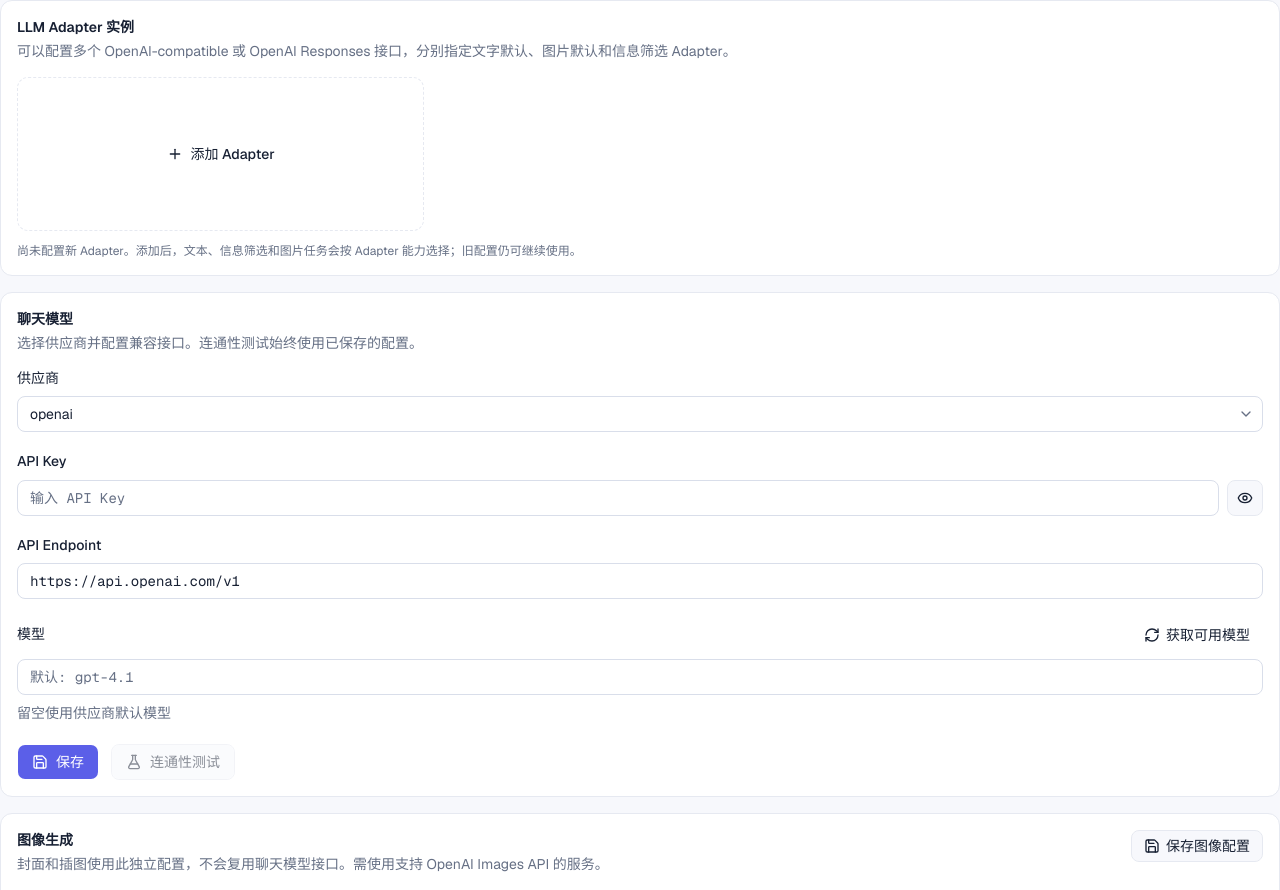
Test case: AISection › dismisses model suggestions with Escape without changing the typed value
Click the button "获取可用模型". click: (1197, 635)
box: [1131,619,1263,651]
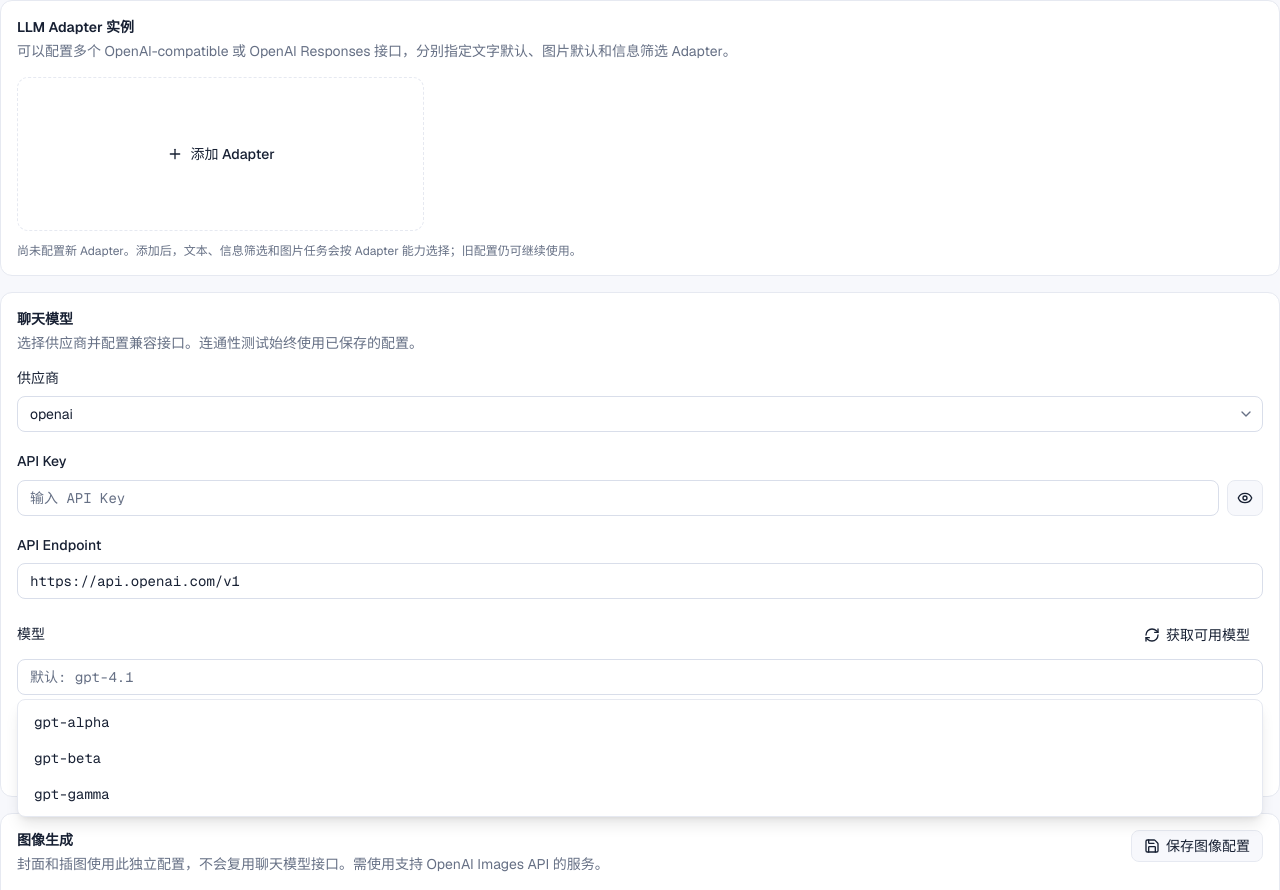
Now the option "gpt-alpha" is shown, box [22,704,1258,740]
Click the dropdown labelled "模型". click: (640, 677)
box: [17,659,1263,695]
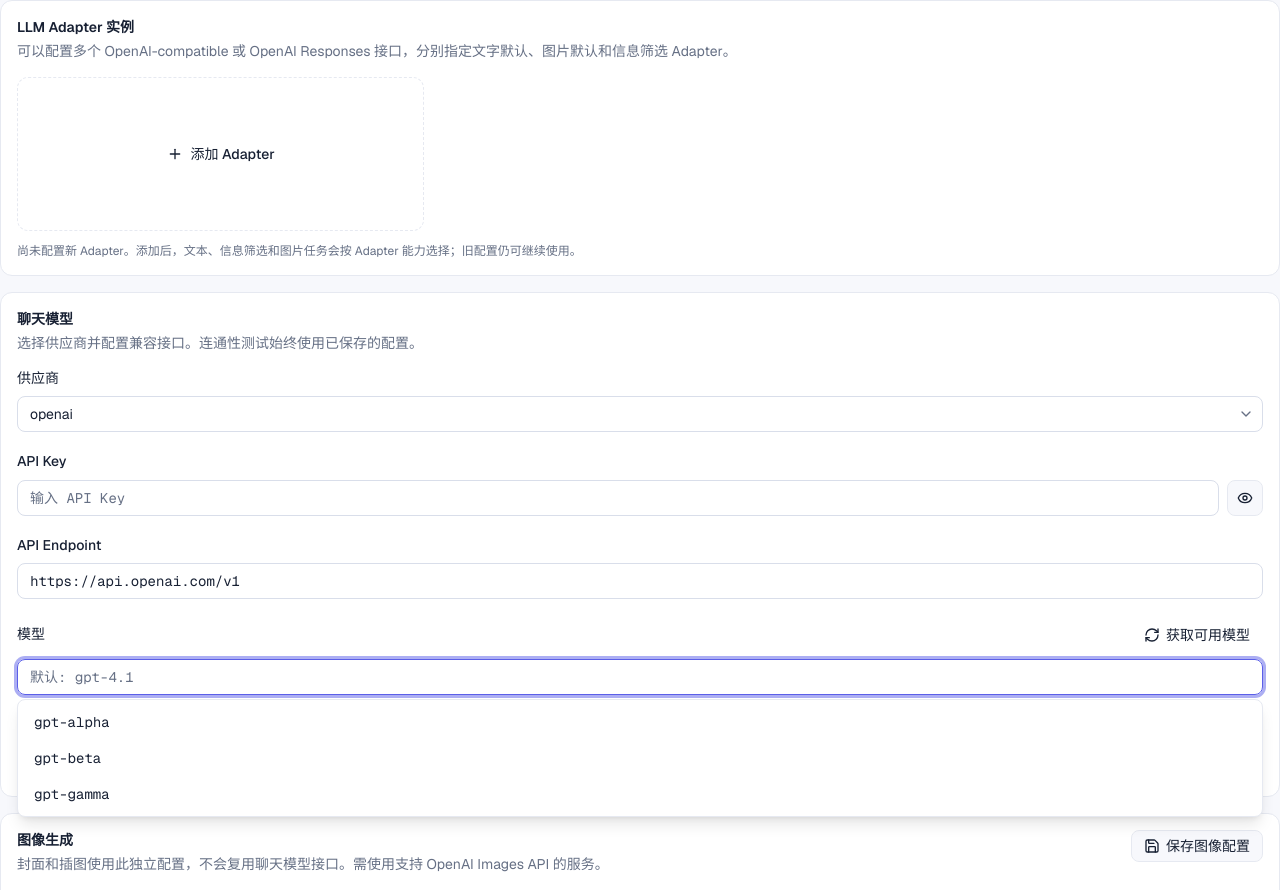
Press Arrowdown Escape
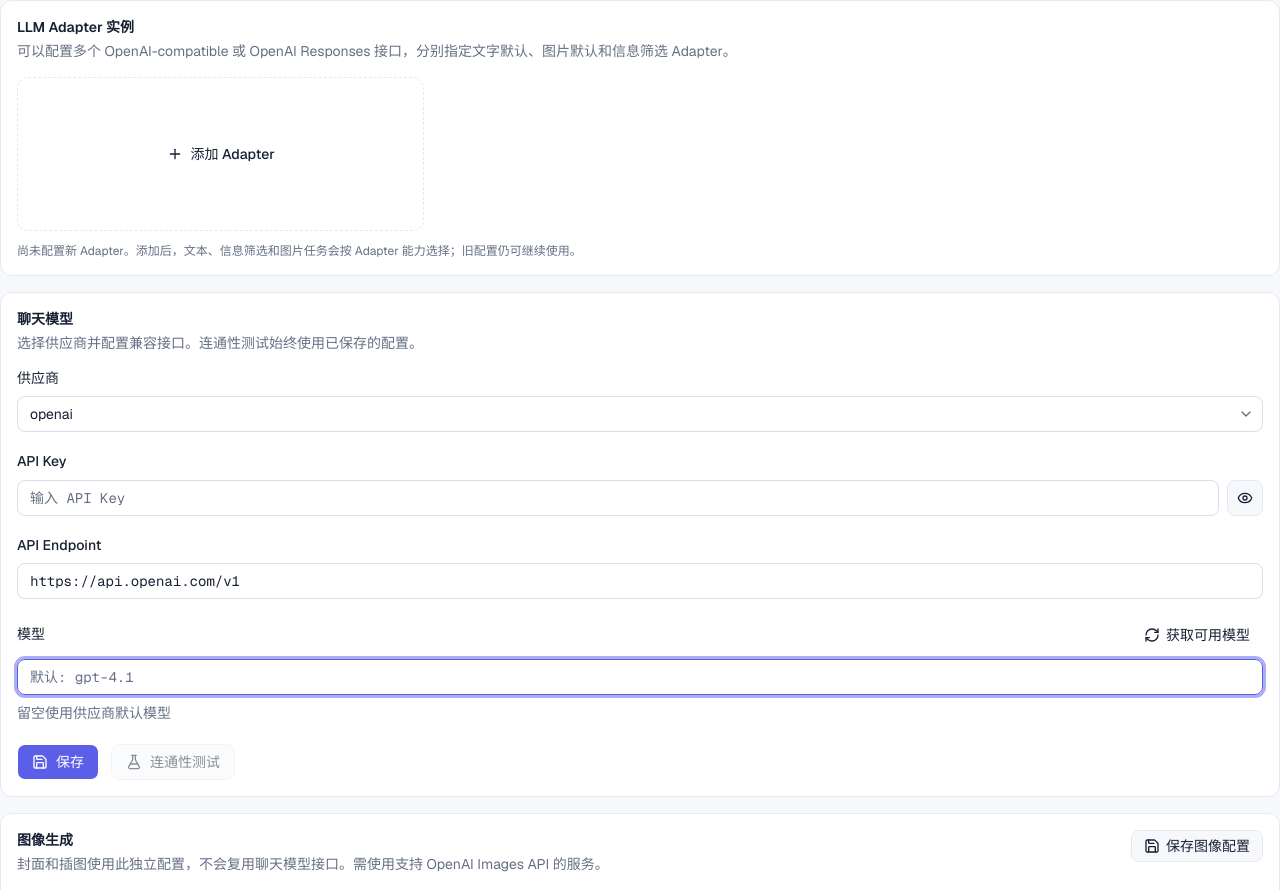
Expected: the dropdown labelled "模型" is empty, [17,659,1263,695]
Now the list is gone
